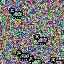sheep: (8, 7, 24, 20), (16, 49, 30, 62), (34, 34, 49, 45), (28, 56, 42, 64), (50, 57, 64, 64)
